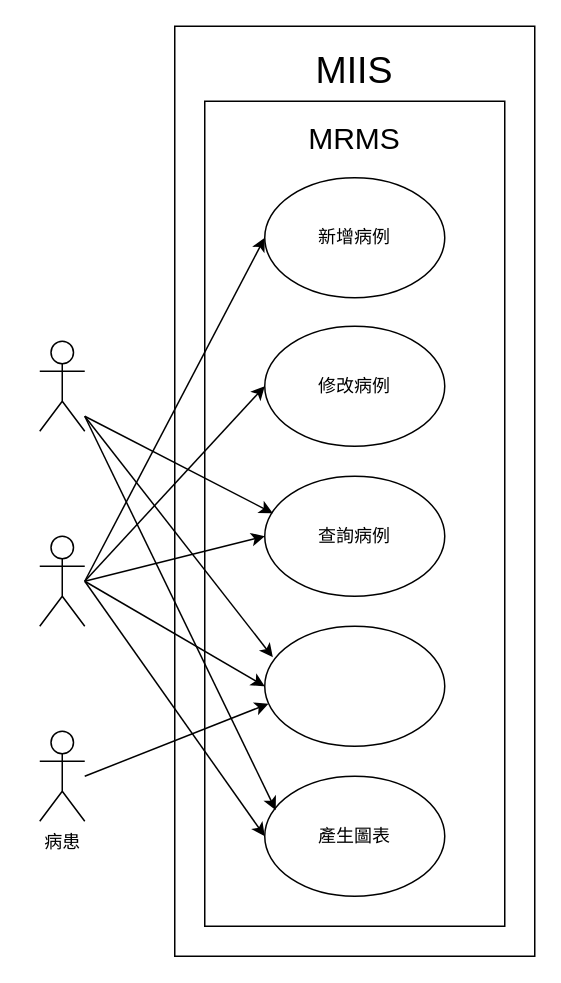
The diagram is 561 pixels wide and 983 high, and some of its shapes have lost their labels. Each missing label, with the box of its shape:
Admin: (38, 340, 85, 431)
觀看病例: (263, 625, 445, 746)
醫務人員: (38, 535, 85, 626)
